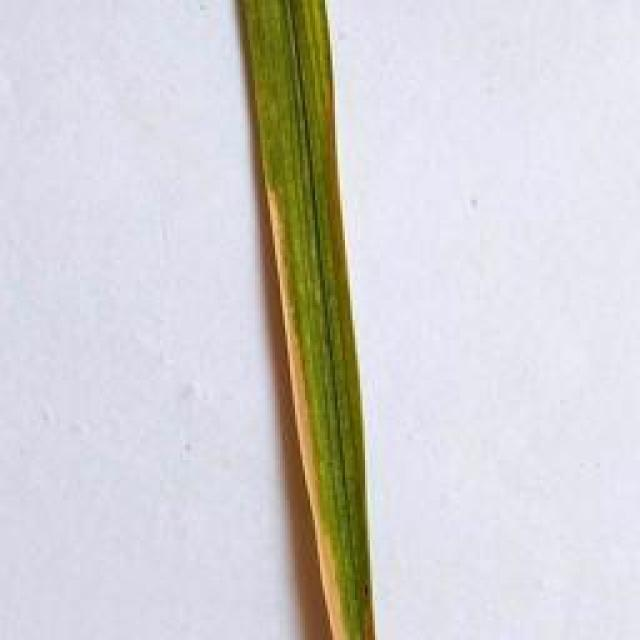Bacterial_Blight: (249, 195, 348, 640)
